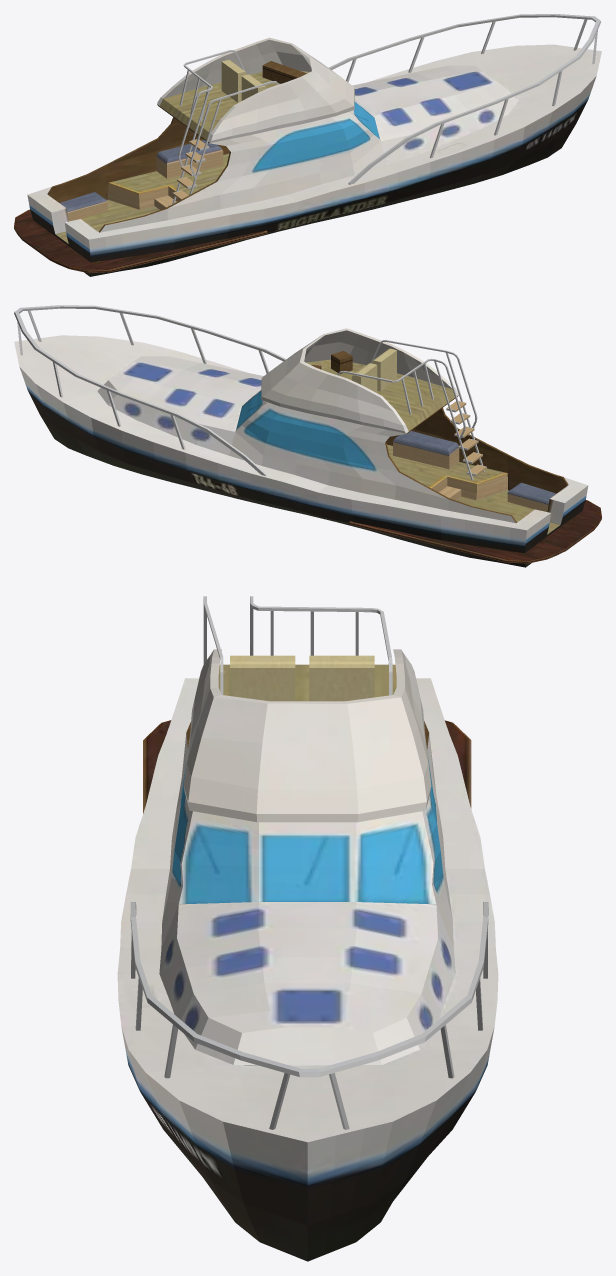
The model's file is yacht.glb.
3 views of the same model, one above another, from view 1: azimuth 30°, elevation 25°; view 2: azimuth 150°, elevation 25°; view 3: azimuth 270°, elevation 25° (orthographic). The views are drawn at different scales.
Parts seen in each view (by area): view 1: yacht; view 2: yacht; view 3: yacht.
Part boxes in pixels (x1,y1,x2,y2): yacht: [14, 14, 601, 276]; yacht: [14, 305, 601, 567]; yacht: [117, 596, 498, 1261].
Size of the model in its own units: 1 by 0.2513 by 0.2914.
1 material, 1 textured.
